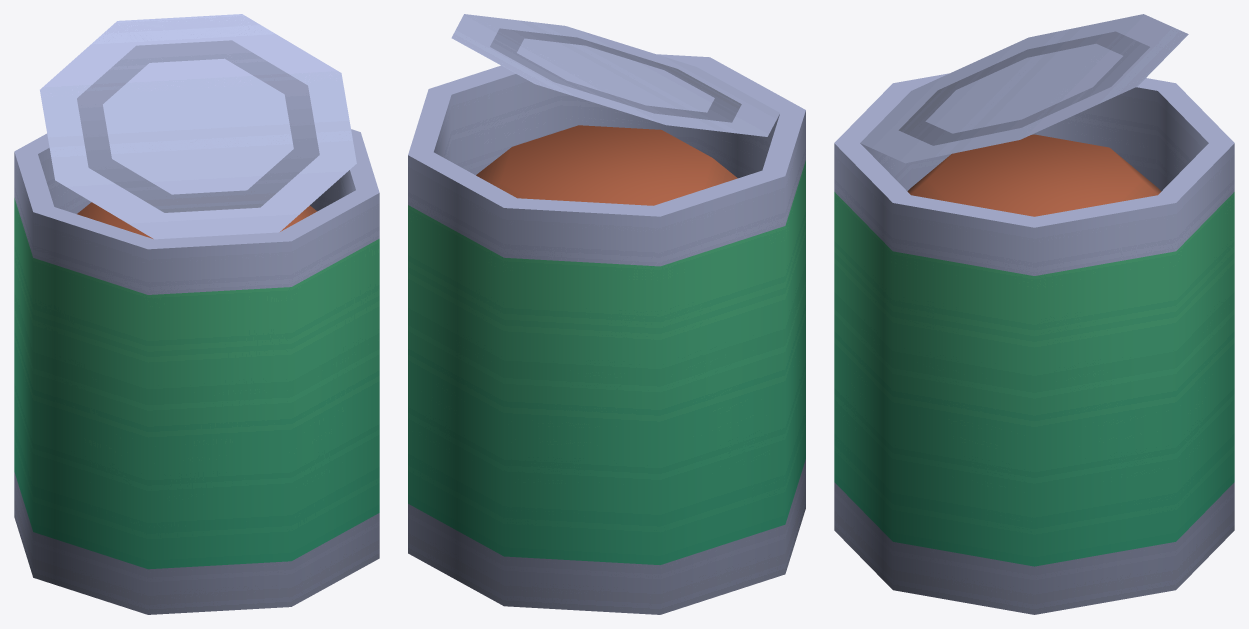
The model's file is can-open.glb.
3 views of the same model, side by side, from view 1: azimuth 30°, elevation 25°; view 2: azimuth 150°, elevation 25°; view 3: azimuth 270°, elevation 25° (orthographic). The views are drawn at different scales.
Parts seen in each view (by area): view 1: can-open; view 2: can-open; view 3: can-open.
Part boxes in pixels (x1,y1,x2,y2): can-open: [14, 14, 379, 614]; can-open: [408, 14, 805, 614]; can-open: [834, 14, 1234, 614].
Bounding box in the file's own units: 0.3 × 0.4071 × 0.3.
1 material, 1 textured.
